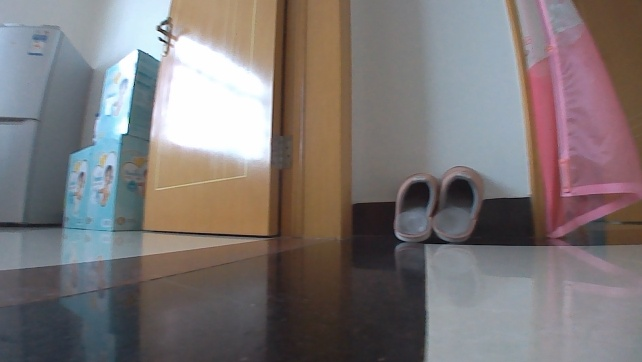door_anno: (140, 0, 355, 239)
refrigerator: (0, 18, 95, 228)
shoe: (431, 162, 486, 245), (390, 170, 437, 244)
